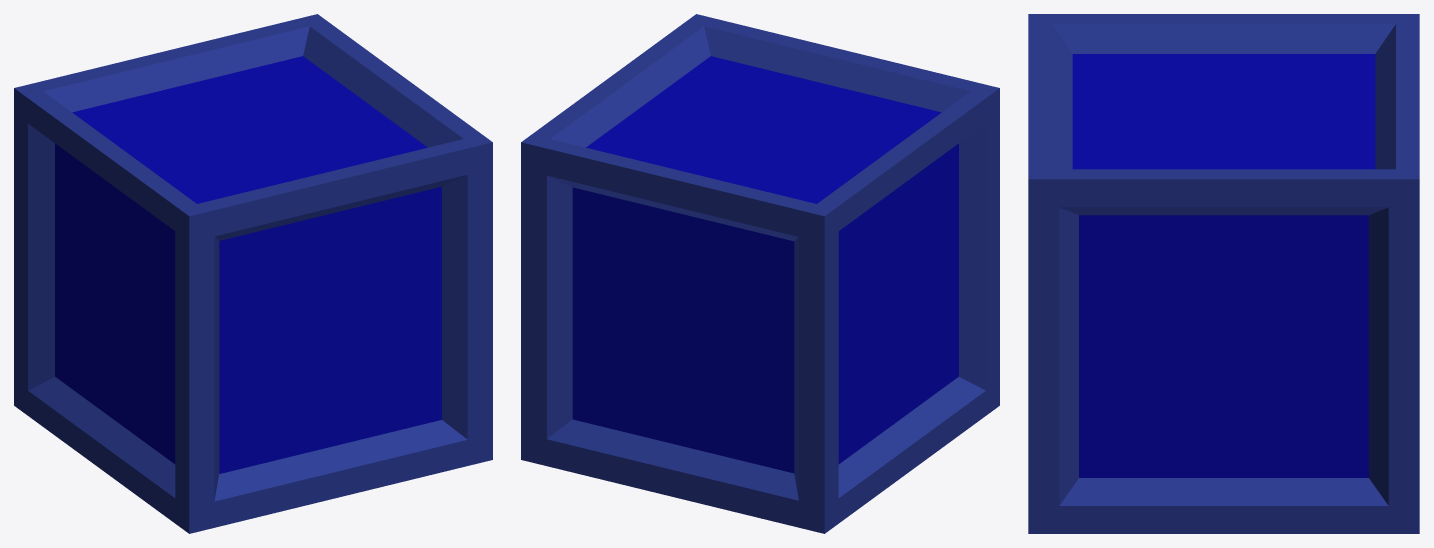
File: F_Skrzynia.fbx
3 views of the same model, side by side, from view 1: azimuth 30°, elevation 25°; view 2: azimuth 150°, elevation 25°; view 3: azimuth 270°, elevation 25° (orthographic). The views are drawn at different scales.
Parts seen in each view (by area): view 1: F_skrzynia; view 2: F_skrzynia; view 3: F_skrzynia.
Boxes of the visible parts, box(x1,y1,x2,y2) form: F_skrzynia: box(14, 14, 492, 533); F_skrzynia: box(521, 14, 999, 533); F_skrzynia: box(1028, 14, 1419, 533).
Bounding box in the file's own units: 91.26 × 91.26 × 91.26.
